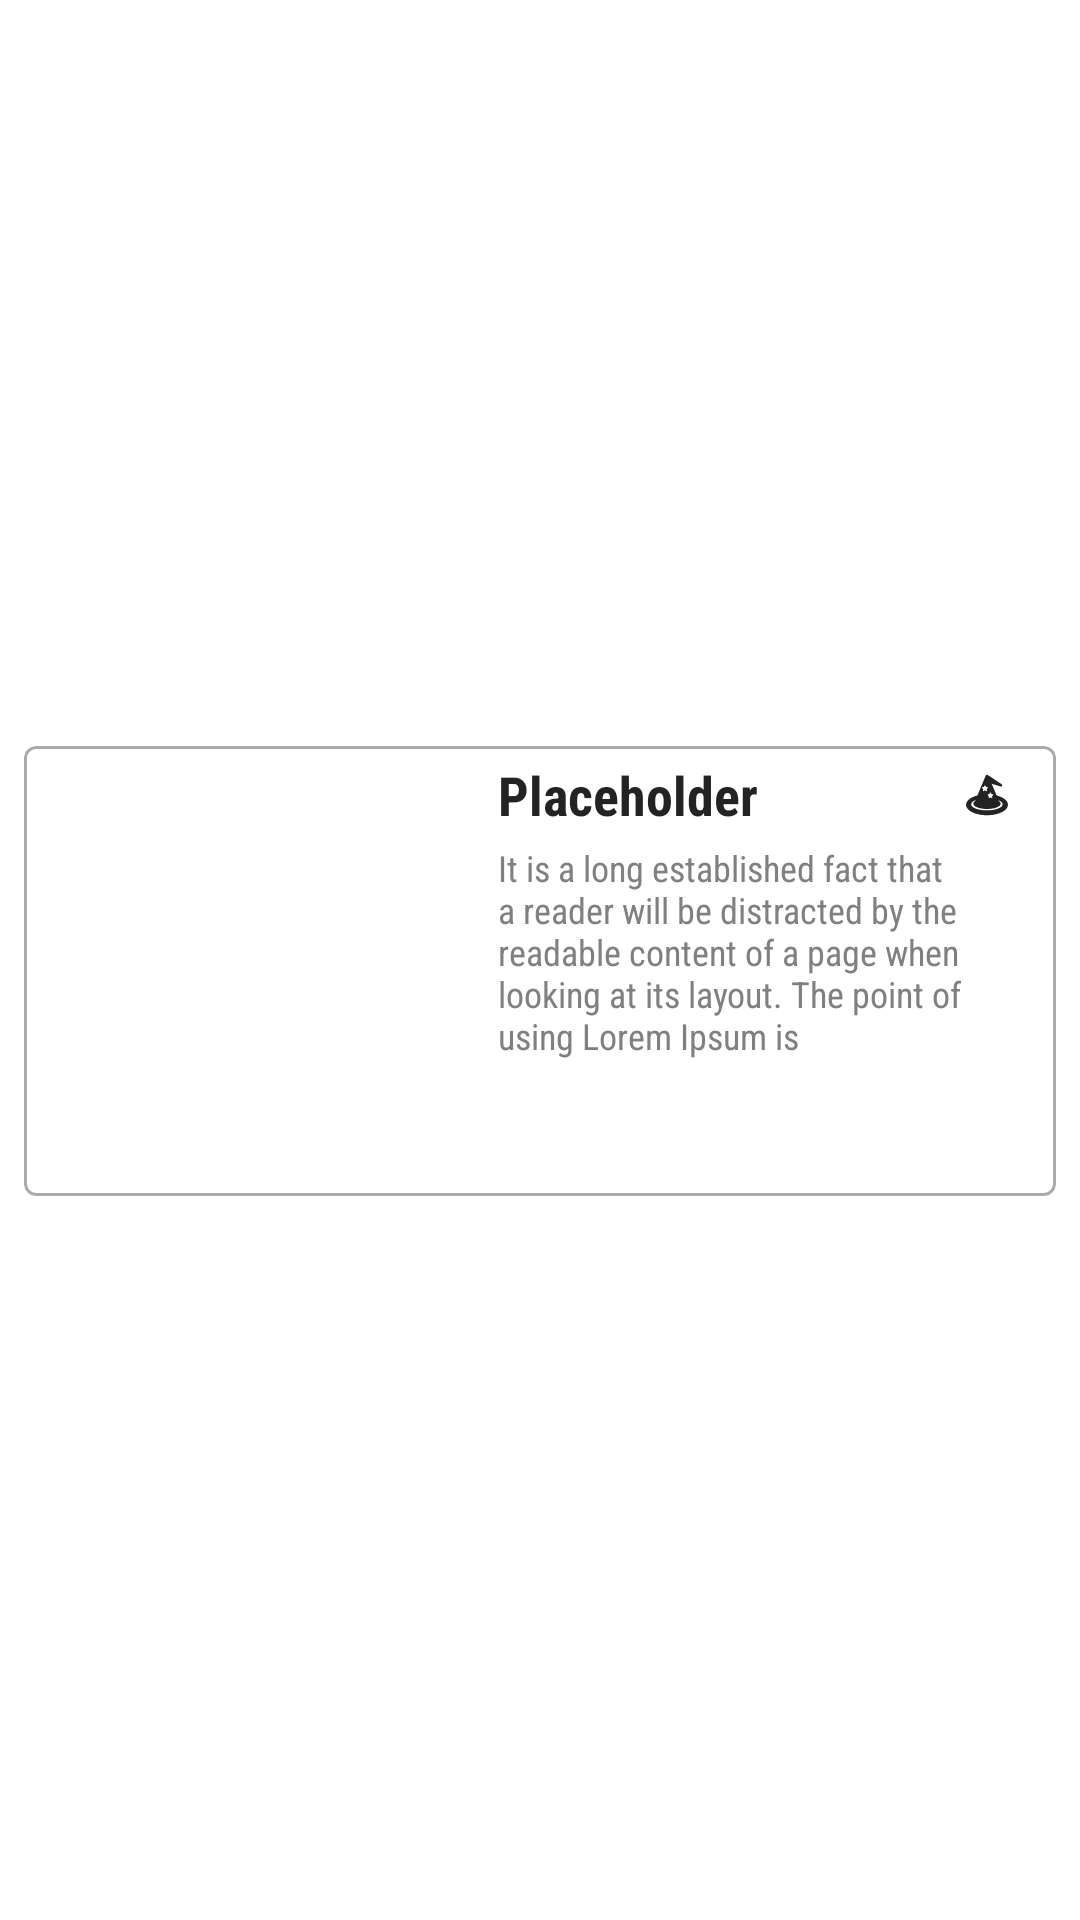

Named icons in this screenshot (1080 × 1920) and their centers, (x=x, y=y):
genre fantasy: (x=987, y=795)
